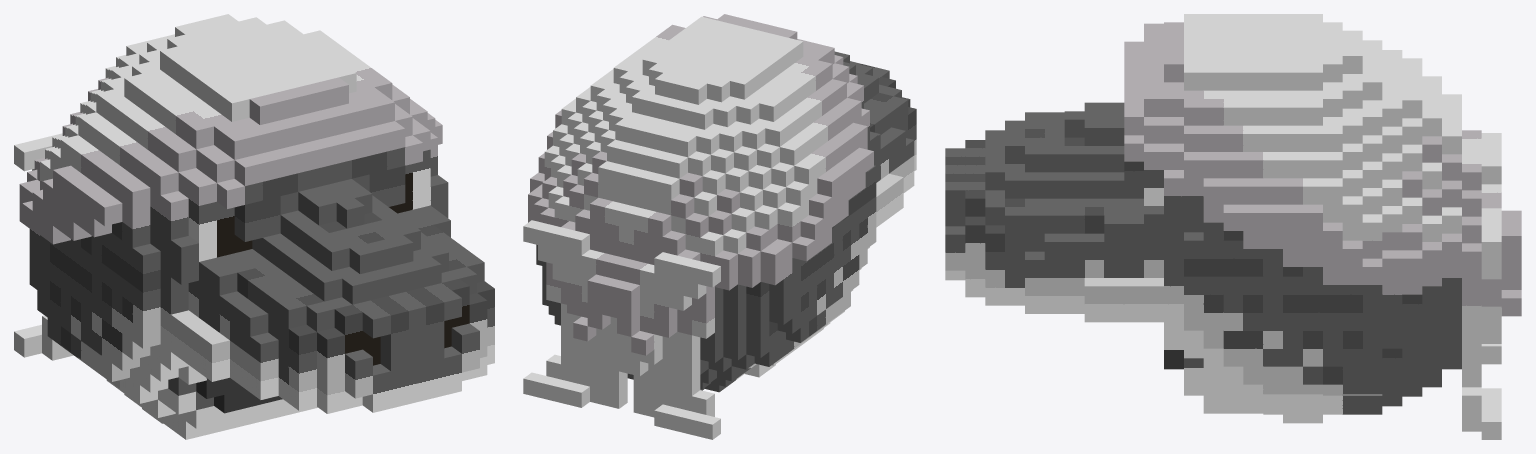
Rendered from black durag_3d glasses.gltf.
3 renders of one model, left to right at view 1: azimuth 30°, elevation 25°; view 2: azimuth 150°, elevation 25°; view 3: azimuth 270°, elevation 25°, orthographic. The views are drawn at different scales.
Parts seen in each view (by area): view 1: C19_H_Durag_CoolDudeG_3D_RBShade-Mesh; view 2: C19_H_Durag_CoolDudeG_3D_RBShade-Mesh; view 3: C19_H_Durag_CoolDudeG_3D_RBShade-Mesh.
Boxes of the visible parts, x1=… form: C19_H_Durag_CoolDudeG_3D_RBShade-Mesh: x1=14, y1=14, x2=494, y2=439; C19_H_Durag_CoolDudeG_3D_RBShade-Mesh: x1=523, y1=14, x2=916, y2=439; C19_H_Durag_CoolDudeG_3D_RBShade-Mesh: x1=945, y1=14, x2=1521, y2=439.
Bounding box in the file's own units: 19 × 19 × 29.
1 material, 1 textured.
